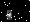person: (8, 11, 13, 21)
